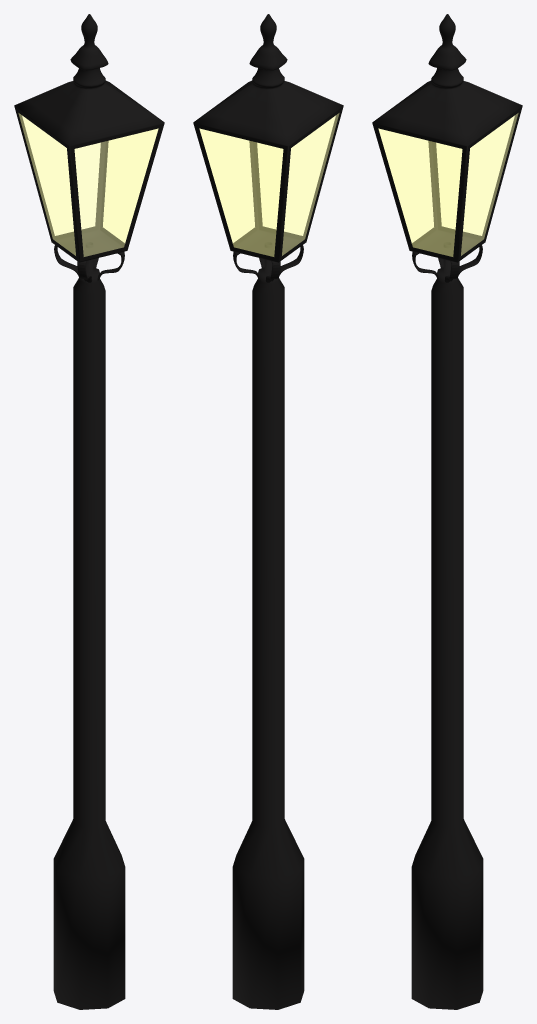
The model's file is post01.fbx.
3 renders of one model, left to right at view 1: azimuth 30°, elevation 25°; view 2: azimuth 150°, elevation 25°; view 3: azimuth 330°, elevation 25°, orthographic.
Parts seen in each view (by area): view 1: Cylinder, head, neck; view 2: Cylinder, head, neck; view 3: Cylinder, head, neck.
Part boxes in pixels (bbox=[...]): Cylinder: bbox=[53, 242, 125, 1009]; head: bbox=[14, 14, 164, 262]; neck: bbox=[54, 245, 124, 282]; Cylinder: bbox=[232, 242, 304, 1009]; head: bbox=[193, 14, 343, 262]; neck: bbox=[233, 245, 303, 282]; Cylinder: bbox=[411, 242, 483, 1009]; head: bbox=[372, 14, 522, 262]; neck: bbox=[412, 245, 482, 282].
Size of the model in its own units: 30.84 by 302 by 30.84.
